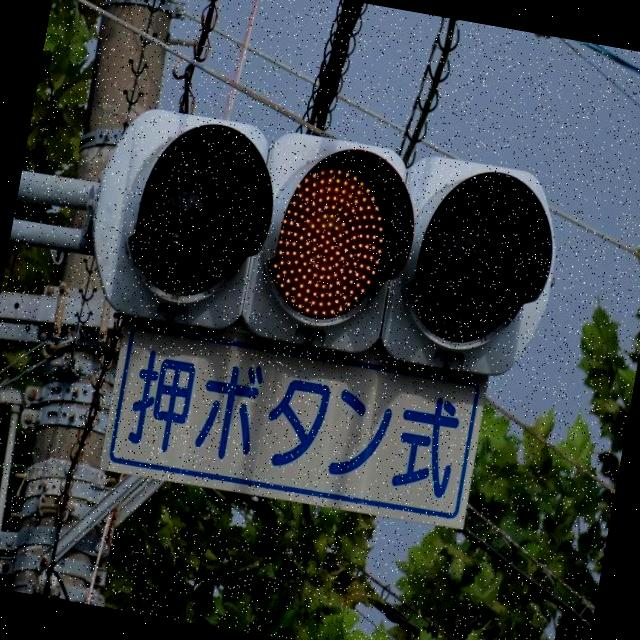yellow_light: (263, 154, 413, 340)
